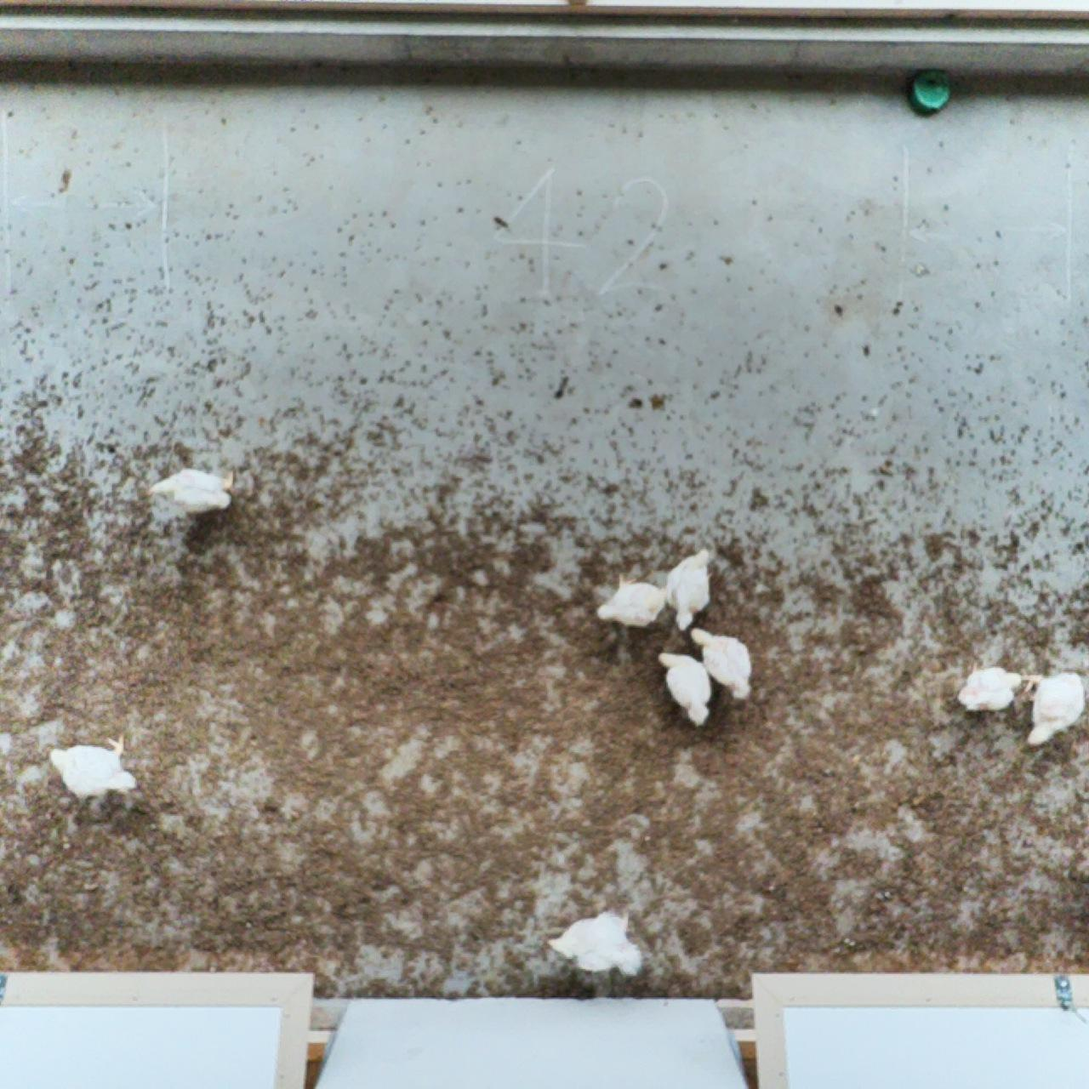chicken: (546, 903, 646, 981), (44, 732, 140, 802), (1018, 666, 1088, 750), (689, 627, 758, 705), (652, 648, 718, 728), (145, 465, 239, 520), (594, 572, 673, 636), (664, 546, 715, 635), (951, 656, 1023, 719)
